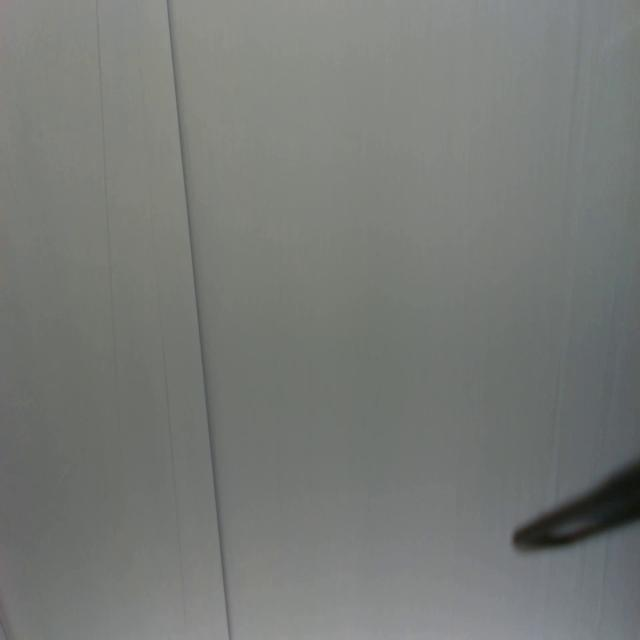crease: (160, 0, 233, 636), (95, 0, 125, 389), (160, 321, 186, 616)
